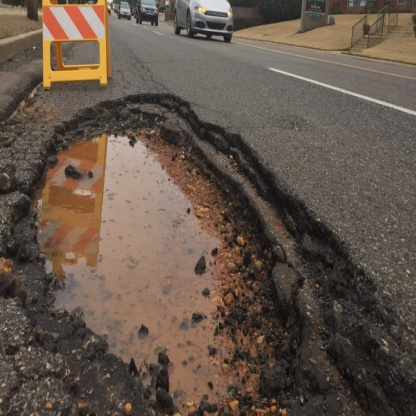pothole: (2, 92, 361, 414)
